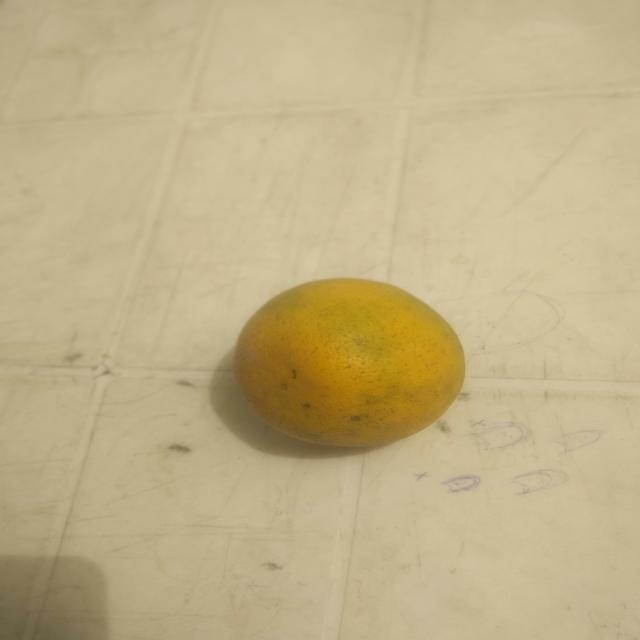agrume: (212, 255, 494, 472)
